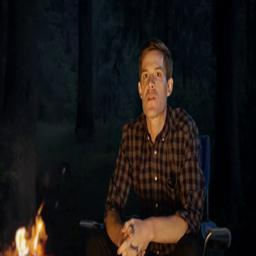fire: (4, 203, 48, 256)
